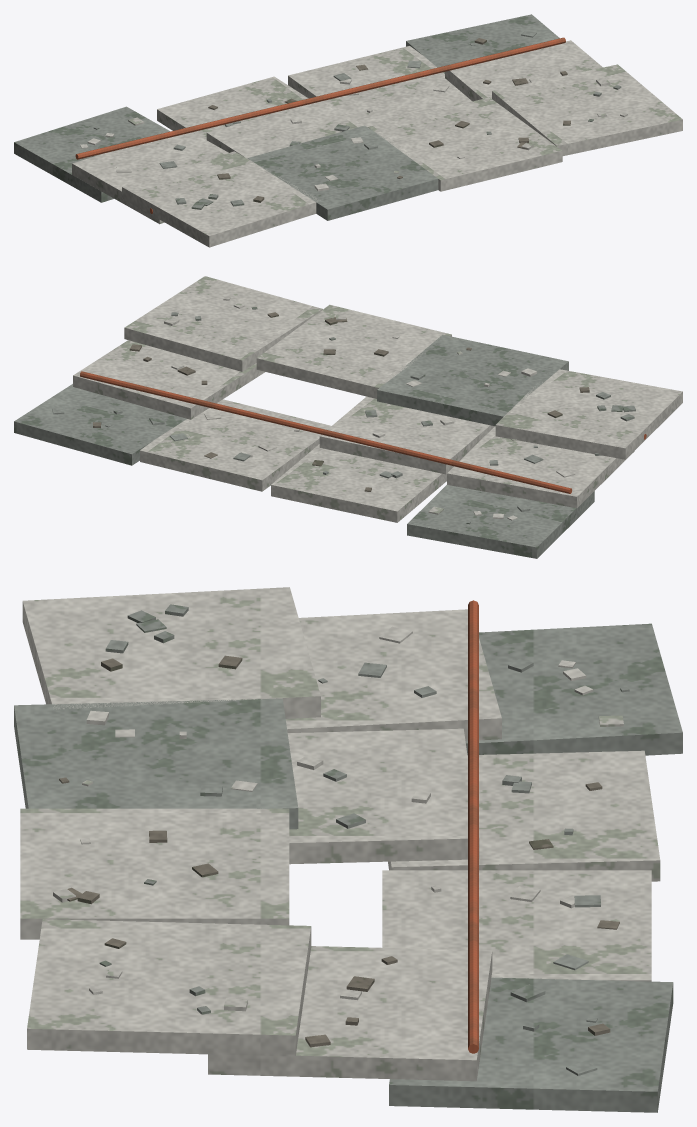
The model's file is fallen_ceiling_tile_pile.glb.
3 renders of one model, top to bottom at view 1: azimuth 30°, elevation 25°; view 2: azimuth 150°, elevation 25°; view 3: azimuth 270°, elevation 25°, orthographic. The views are drawn at different scales.
Visible parts, largest first — view 1: InteriorPropGeometry; view 2: InteriorPropGeometry; view 3: InteriorPropGeometry.
Boxes of the visible parts, x1,y1,x2,y2 form: InteriorPropGeometry: (14, 14, 682, 247); InteriorPropGeometry: (14, 276, 682, 558); InteriorPropGeometry: (14, 587, 682, 1112).
Bounding box in the file's own units: 2.39 × 0.1697 × 1.44.
Materials: 4 (4 with a texture image).
